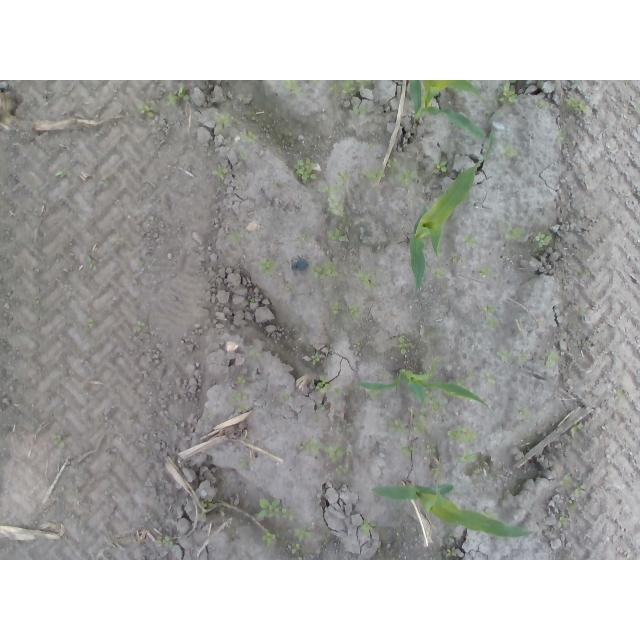Maize: (406, 131, 498, 289), (373, 482, 535, 539), (356, 359, 497, 418), (410, 81, 487, 140)
Weeds: (257, 495, 295, 521), (318, 184, 345, 217), (334, 80, 374, 96), (446, 425, 479, 444), (294, 157, 318, 183), (370, 159, 399, 179), (498, 81, 519, 107), (480, 305, 497, 330), (281, 80, 303, 98), (566, 100, 594, 114), (169, 86, 192, 103), (311, 262, 335, 278), (231, 391, 249, 412), (399, 167, 417, 186), (356, 274, 377, 289), (326, 447, 343, 464), (294, 528, 312, 544), (457, 449, 476, 464), (216, 112, 233, 128), (390, 419, 408, 434), (433, 158, 449, 174), (135, 102, 152, 117), (259, 258, 274, 275), (156, 535, 173, 550), (262, 532, 277, 549), (302, 439, 318, 454), (398, 336, 410, 355), (317, 375, 332, 390), (212, 164, 226, 180), (328, 229, 345, 242), (544, 352, 557, 369), (336, 464, 353, 477), (361, 518, 379, 530), (347, 308, 361, 323), (505, 228, 520, 241), (240, 129, 255, 142), (535, 234, 551, 246), (401, 445, 414, 459), (199, 496, 213, 509), (423, 443, 437, 456), (287, 542, 302, 554), (481, 372, 496, 384), (503, 147, 518, 158), (352, 105, 368, 115), (233, 231, 249, 241), (134, 320, 146, 333), (558, 515, 569, 529), (465, 236, 479, 247), (309, 352, 321, 364), (52, 434, 64, 446), (88, 254, 96, 271), (329, 302, 339, 314), (415, 422, 425, 434), (434, 269, 447, 278), (236, 375, 247, 385), (55, 170, 66, 179), (480, 268, 489, 278), (536, 100, 545, 108)
